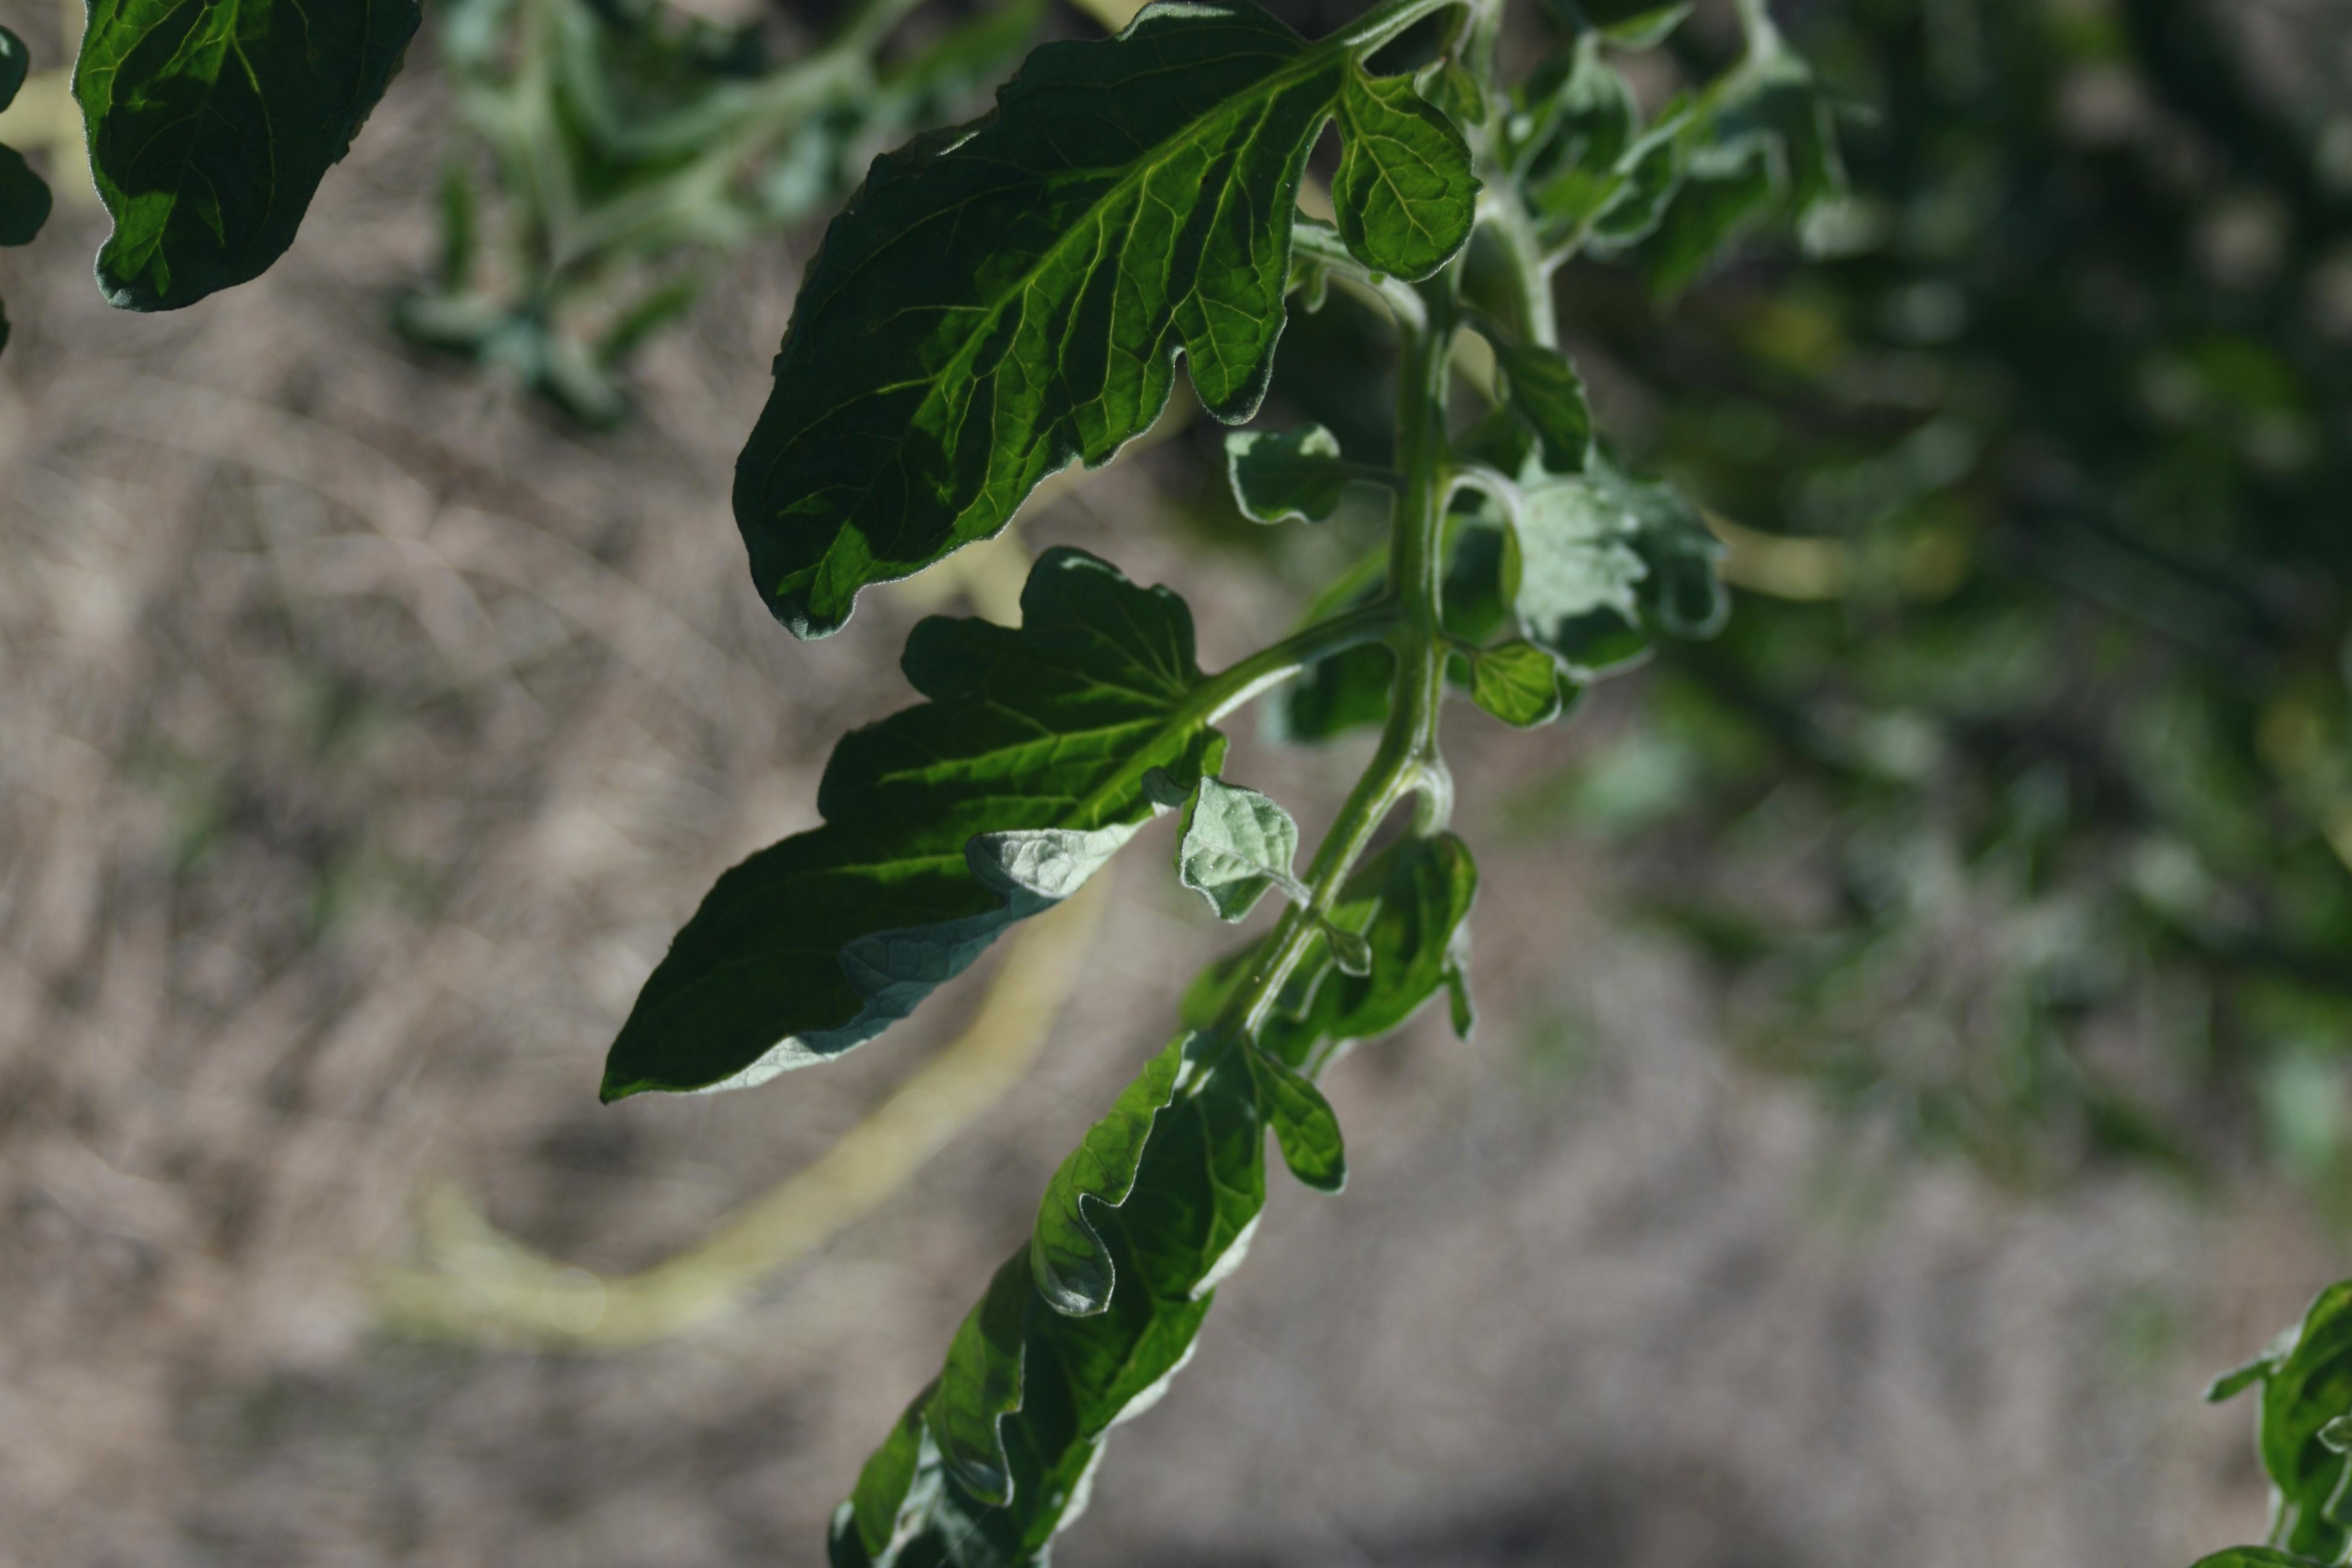Tomato leaf: (640, 0, 1466, 786), (579, 467, 1281, 1279), (726, 852, 1454, 1568)
